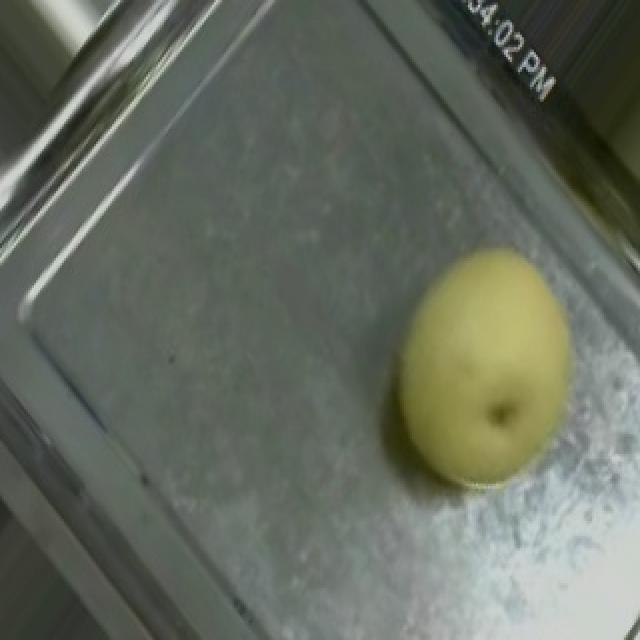Fruit: (346, 208, 620, 526)
